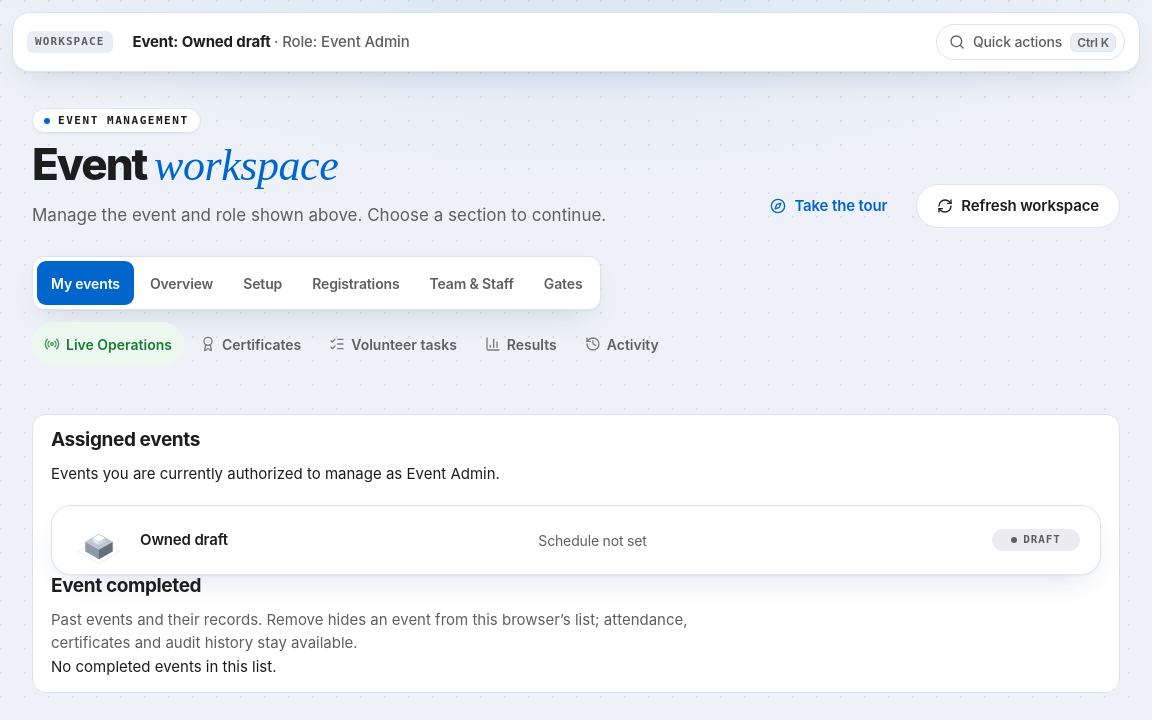
Scenario: authenticated Event workspace › refreshes contexts after detail concealment and removes the lost Event data
Expected: the heading "Assigned events" is shown, [51, 428, 200, 451]
Step 1. Click the button "Overview" → (182, 283), box [136, 261, 227, 305]
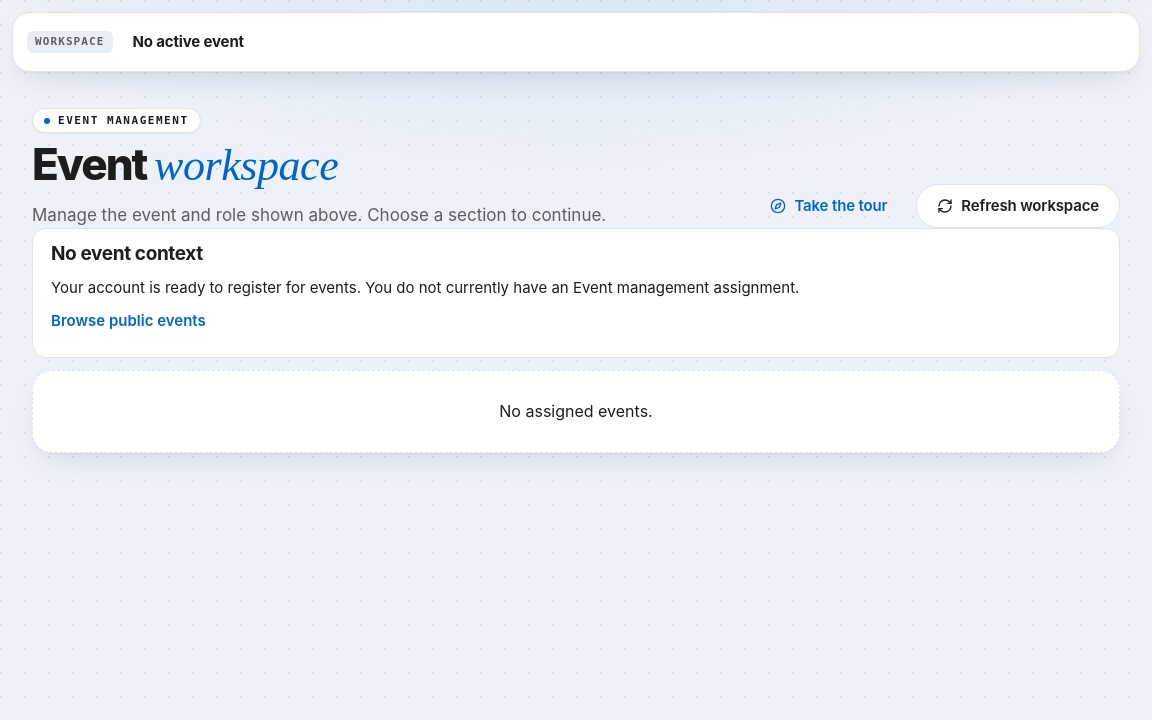
Result: the heading "No event context" is shown at [51, 242, 203, 265]
Result: the text "Owned draft" is gone
